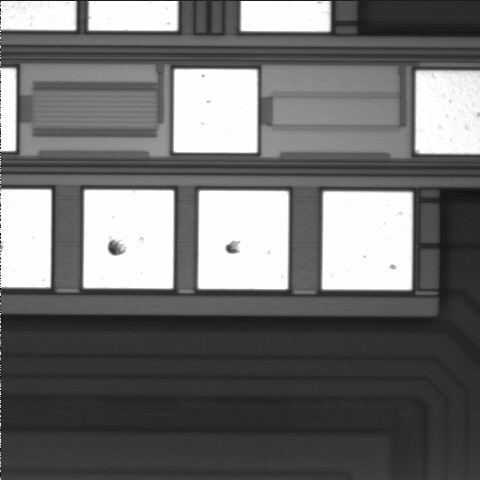pad: (83, 190, 174, 289), (198, 191, 289, 289), (322, 191, 412, 290), (174, 69, 257, 153)
